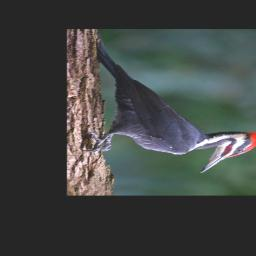Woodpecker: (80, 31, 256, 173)
